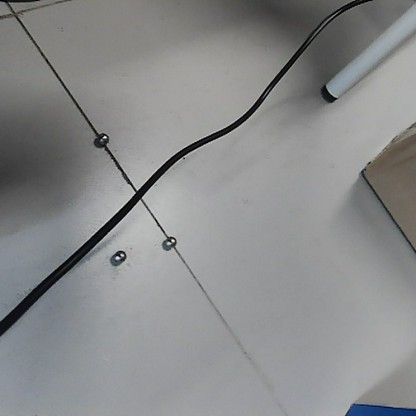ironball: (109, 246, 126, 264), (95, 127, 111, 146), (161, 233, 177, 251)
